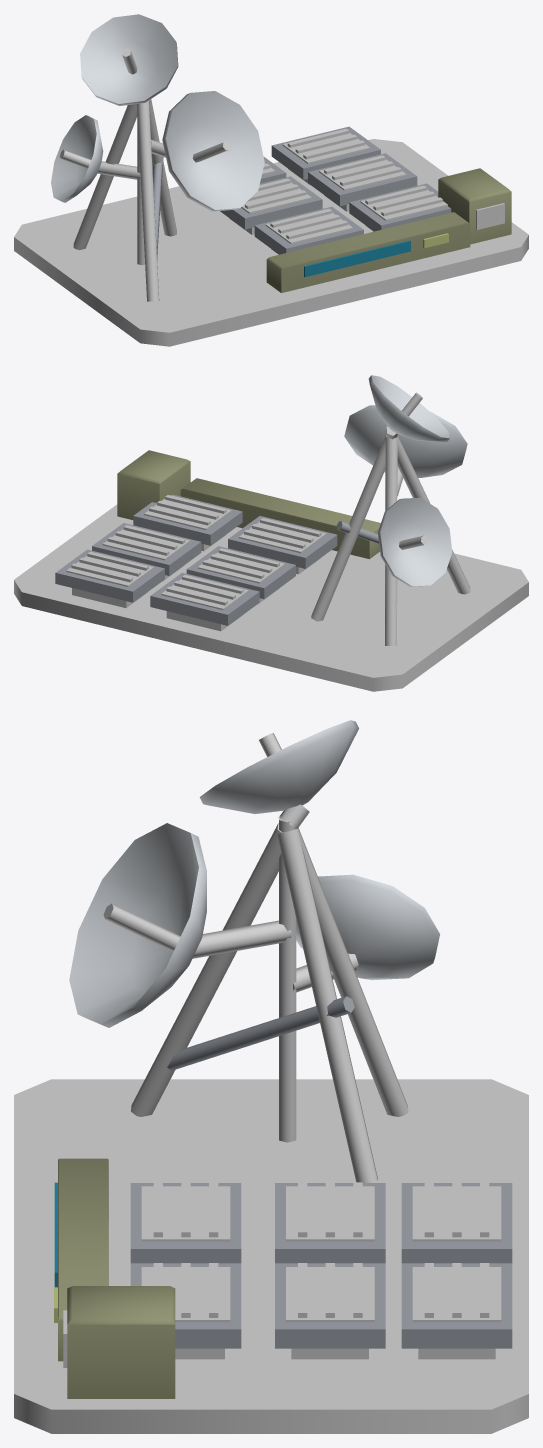
Rendered from sun_blocker.obj.
3 renders of one model, top to bottom at view 1: azimuth 30°, elevation 25°; view 2: azimuth 150°, elevation 25°; view 3: azimuth 270°, elevation 25°, orthographic. The views are drawn at different scales.
Parts seen in each view (by area): view 1: source_component_000, source_component_011, source_component_009, source_component_051, source_component_054, source_component_013, source_component_001, source_component_040, source_component_002, source_component_046, source_component_022, source_component_016 (+12 smaller); view 2: source_component_000, source_component_013, source_component_051, source_component_011, source_component_054, source_component_009, source_component_003, source_component_046, source_component_028, source_component_016, source_component_034, source_component_002 (+11 smaller); view 3: source_component_000, source_component_011, source_component_054, source_component_013, source_component_003, source_component_009, source_component_051, source_component_001, source_component_002, source_component_046, source_component_040, source_component_005 (+15 smaller).
Part boxes in pixels (box(x1,y1,x2,y2)): source_component_000: box(14, 139, 528, 346); source_component_011: box(162, 91, 264, 211); source_component_009: box(80, 14, 178, 105); source_component_051: box(266, 212, 470, 292); source_component_054: box(438, 168, 511, 244); source_component_013: box(51, 115, 103, 202); source_component_001: box(137, 100, 159, 301); source_component_040: box(308, 153, 417, 206); source_component_002: box(73, 104, 137, 250); source_component_046: box(271, 126, 380, 179); source_component_022: box(220, 176, 322, 229); source_component_016: box(254, 206, 363, 254); source_component_000: box(14, 504, 528, 691); source_component_013: box(378, 497, 452, 586); source_component_051: box(180, 478, 380, 559); source_component_011: box(344, 405, 467, 477); source_component_054: box(117, 450, 190, 519); source_component_009: box(368, 375, 449, 441); source_component_003: box(311, 435, 386, 621); source_component_046: box(55, 549, 164, 602); source_component_028: box(150, 572, 259, 625); source_component_016: box(228, 516, 337, 568); source_component_034: box(133, 494, 242, 545); source_component_002: box(385, 438, 397, 645); source_component_000: box(14, 1079, 528, 1433); source_component_011: box(69, 823, 206, 1027); source_component_054: box(67, 1286, 175, 1398); source_component_013: box(296, 874, 440, 980); source_component_003: box(277, 829, 377, 1182); source_component_009: box(199, 720, 358, 814); source_component_051: box(58, 1158, 108, 1361); source_component_001: box(131, 823, 281, 1116); source_component_002: box(297, 828, 408, 1116); source_component_046: box(401, 1263, 512, 1348); source_component_040: box(275, 1263, 385, 1348); source_component_005: box(279, 815, 296, 1142).
Bounding box in the file's own units: 5.86 × 3.64 × 3.86.
